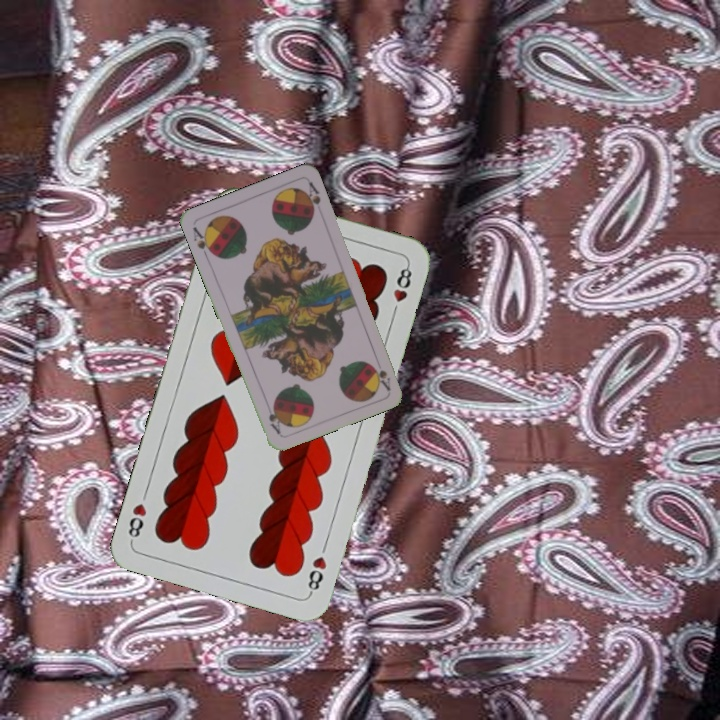H8: (303, 552, 329, 597)
SA: (189, 222, 217, 261), (370, 362, 393, 393)
